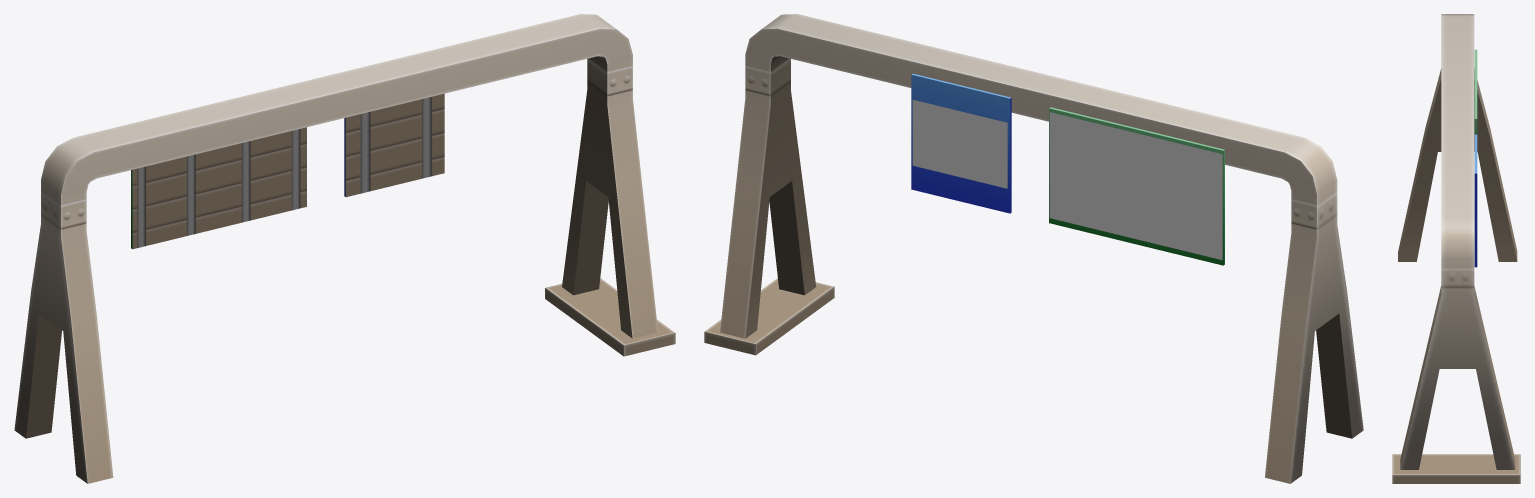
File: Gate_01.fbx
3 renders of one model, left to right at view 1: azimuth 30°, elevation 25°; view 2: azimuth 150°, elevation 25°; view 3: azimuth 270°, elevation 25°, orthographic. The views are drawn at different scales.
Visible parts, largest first — view 1: Sign_Gate, Sign_Gate_Sign, Sign_Gate_Sign.001; view 2: Sign_Gate, Sign_Gate_Sign, Sign_Gate_Sign.001; view 3: Sign_Gate, Sign_Gate_Sign.001, Sign_Gate_Sign.
Boxes of the visible parts, x1=… form: Sign_Gate: x1=14, y1=14, x2=675, y2=483; Sign_Gate_Sign: x1=131, y1=127, x2=306, y2=249; Sign_Gate_Sign.001: x1=344, y1=93, x2=444, y2=197; Sign_Gate: x1=704, y1=14, x2=1363, y2=483; Sign_Gate_Sign: x1=1049, y1=107, x2=1224, y2=265; Sign_Gate_Sign.001: x1=911, y1=73, x2=1011, y2=213; Sign_Gate: x1=1392, y1=14, x2=1520, y2=483; Sign_Gate_Sign.001: x1=1474, y1=134, x2=1477, y2=267; Sign_Gate_Sign: x1=1474, y1=49, x2=1477, y2=134.
Bounding box in the file's own units: 1005 × 500 × 235.
